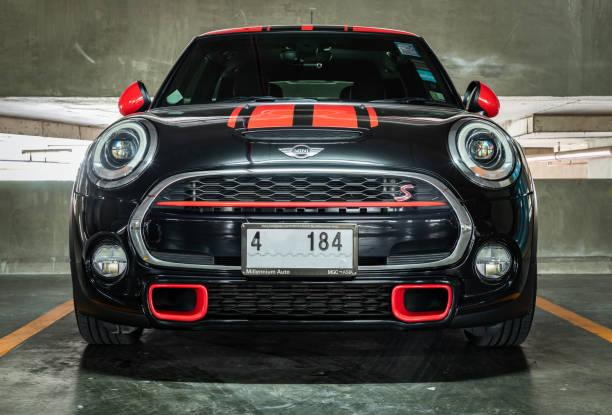mini: (273, 140, 337, 169)
